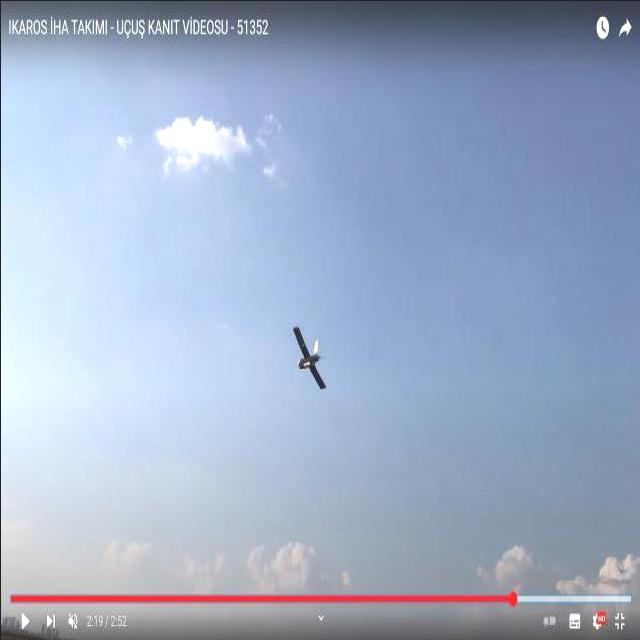plane: (292, 324, 327, 389)
